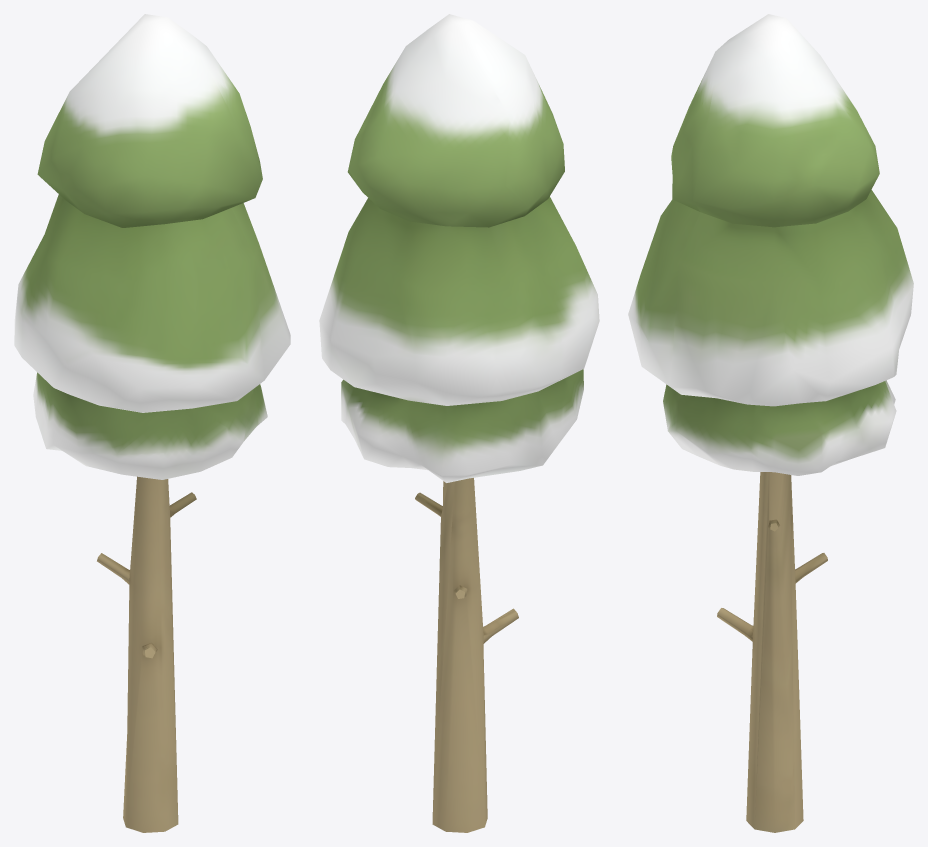
3 renders of one model, left to right at view 1: azimuth 30°, elevation 25°; view 2: azimuth 150°, elevation 25°; view 3: azimuth 270°, elevation 25°, orthographic.
Parts seen in each view (by area): view 1: wSosna; view 2: wSosna; view 3: wSosna.
Boxes of the visible parts, x1,y1,x2,y2 form: wSosna: (14,14,290,832); wSosna: (319,14,599,832); wSosna: (628,14,913,832).
Size of the model in its own units: 6.16 by 20.37 by 6.57.
Materials: 1 (1 with a texture image).
